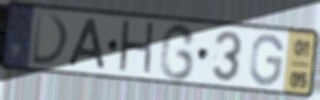3: (209, 29, 244, 84)
A: (65, 17, 108, 71)
D: (30, 10, 72, 68)
G: (157, 22, 198, 83), (247, 33, 286, 88)
H: (116, 18, 157, 79)
